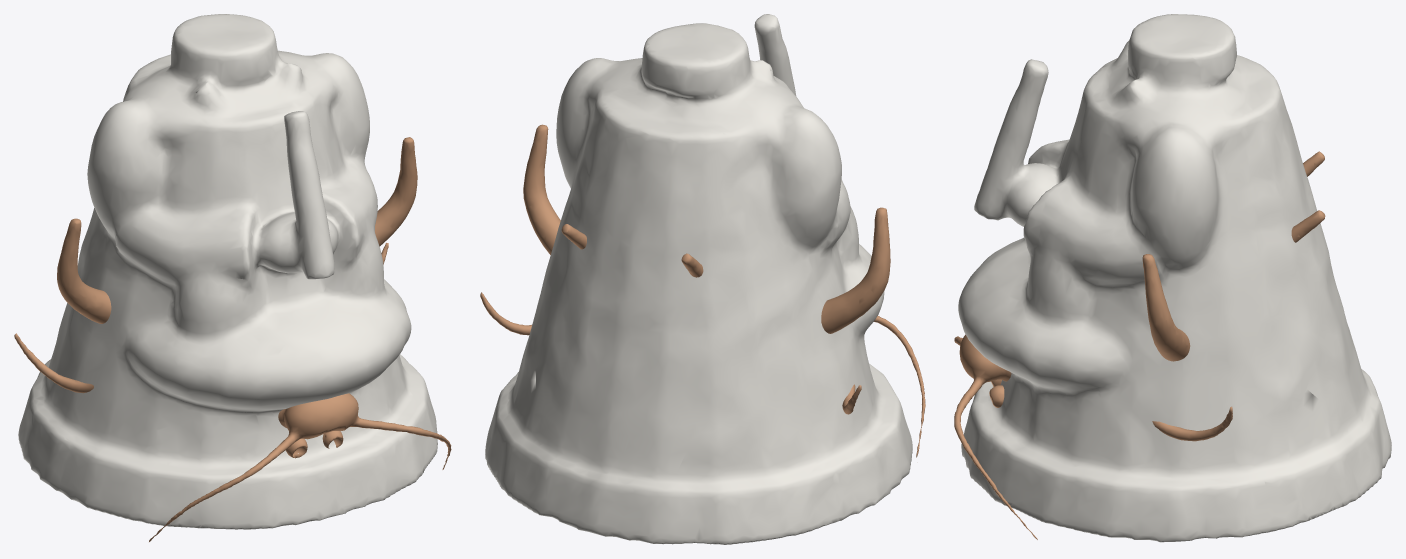
File: zodiac.glb
The picture shows the model from 3 angles, left to right: view 1: azimuth 30°, elevation 25°; view 2: azimuth 150°, elevation 25°; view 3: azimuth 270°, elevation 25°; orthographic projection. The views are drawn at different scales.
Visible parts, largest first — view 1: zbody, head_ox, head_dragon, head_goat, head_horse; view 2: zbody, head_ox, head_dragon, head_goat; view 3: zbody, head_dragon, head_ox, head_goat.
Part boxes in pixels (box(x1,y1,x2,y2)): zbody: box(18, 14, 437, 529); head_ox: box(57, 137, 417, 323); head_dragon: box(149, 393, 451, 541); head_goat: box(14, 243, 388, 393); head_horse: box(285, 431, 343, 458); zbody: box(485, 14, 912, 544); head_ox: box(523, 124, 890, 333); head_dragon: box(561, 224, 925, 457); head_goat: box(480, 292, 861, 414); zbody: box(958, 14, 1391, 542); head_dragon: box(954, 151, 1325, 539); head_ox: box(1142, 254, 1190, 361); head_goat: box(1152, 406, 1232, 441).
Bounding box in the file's own units: 1.26 × 1.39 × 1.24.
